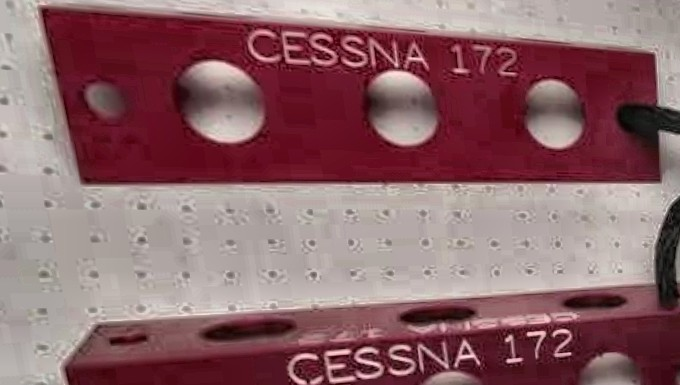chock: (21, 0, 679, 196), (43, 277, 680, 385)
